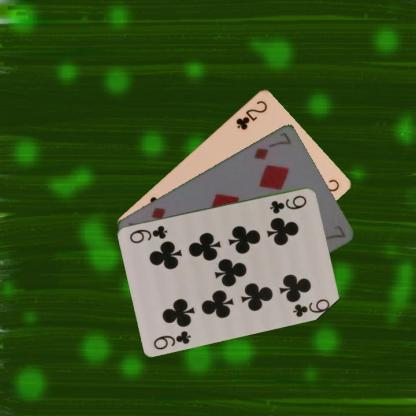2c: (233, 97, 269, 131)
7d: (251, 128, 293, 160)
9c: (267, 192, 308, 215), (151, 328, 192, 350)
